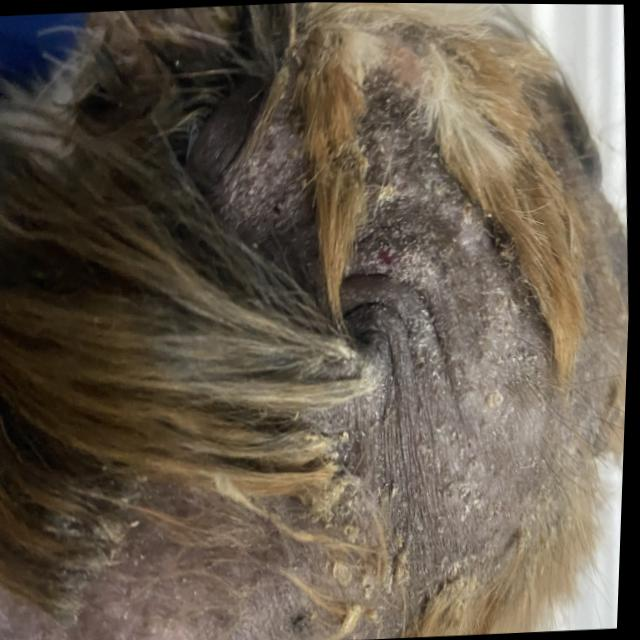demodicosis: (381, 354, 552, 612), (342, 154, 467, 356), (205, 98, 304, 234)
